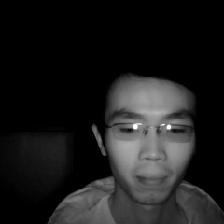normal: (89, 59, 202, 210)
